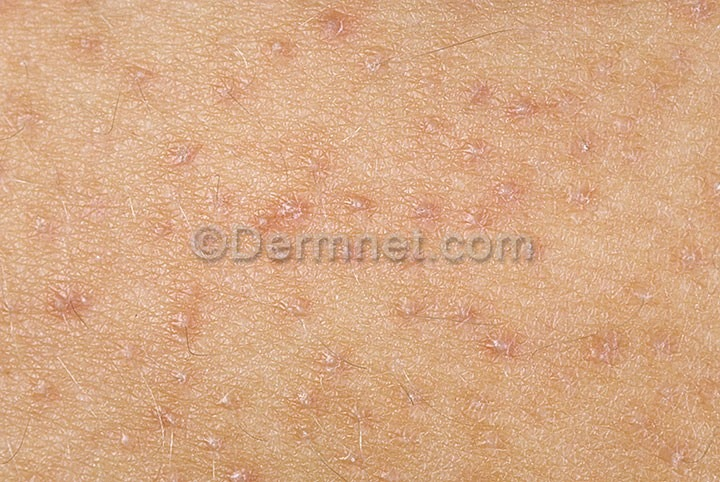Eczema: (1, 2, 717, 481)
